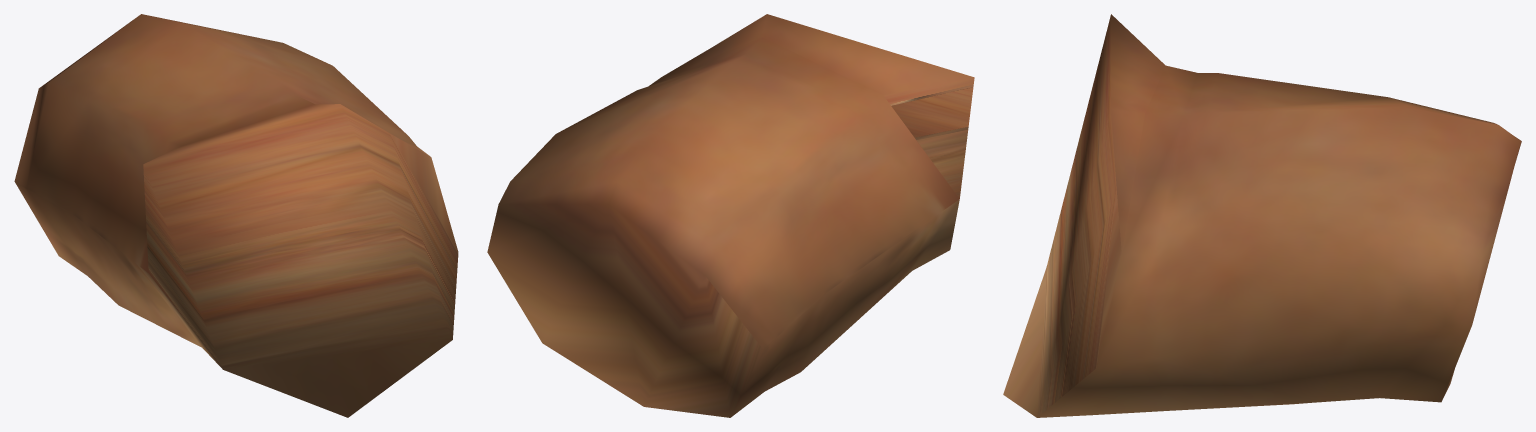
The model's file is pinky_01_l.dae.
3 renders of one model, left to right at view 1: azimuth 30°, elevation 25°; view 2: azimuth 150°, elevation 25°; view 3: azimuth 270°, elevation 25°, orthographic. The views are drawn at different scales.
Visible parts, largest first — view 1: pinky_1_l; view 2: pinky_1_l; view 3: pinky_1_l.
Part boxes in pixels (x1=…): pinky_1_l: x1=14, y1=14, x2=458, y2=417; pinky_1_l: x1=487, y1=14, x2=974, y2=417; pinky_1_l: x1=1003, y1=14, x2=1521, y2=417.
Bounding box in the file's own units: 0.0228 × 0.0291 × 0.0192.
Materials: 1 (1 with a texture image).
